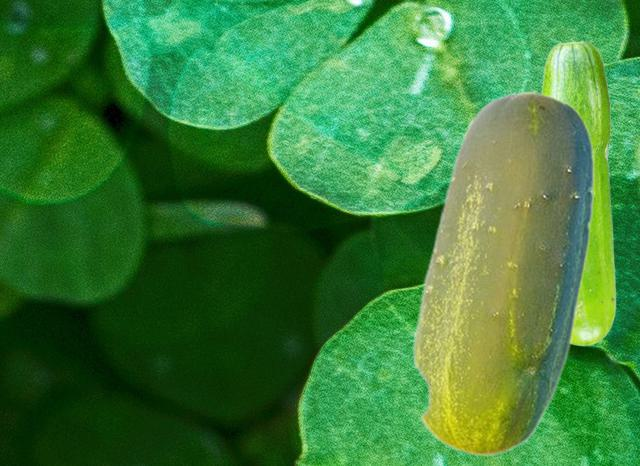cucumber: (411, 90, 593, 456), (541, 40, 615, 345)
